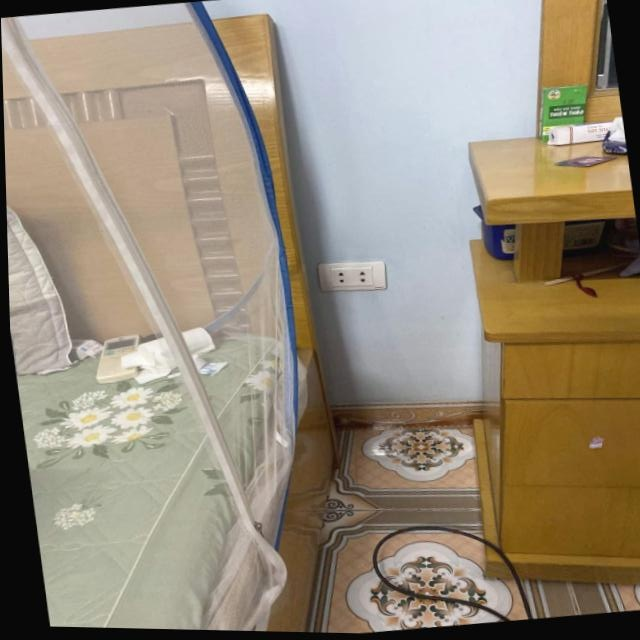outlet: (316, 256, 390, 296)
